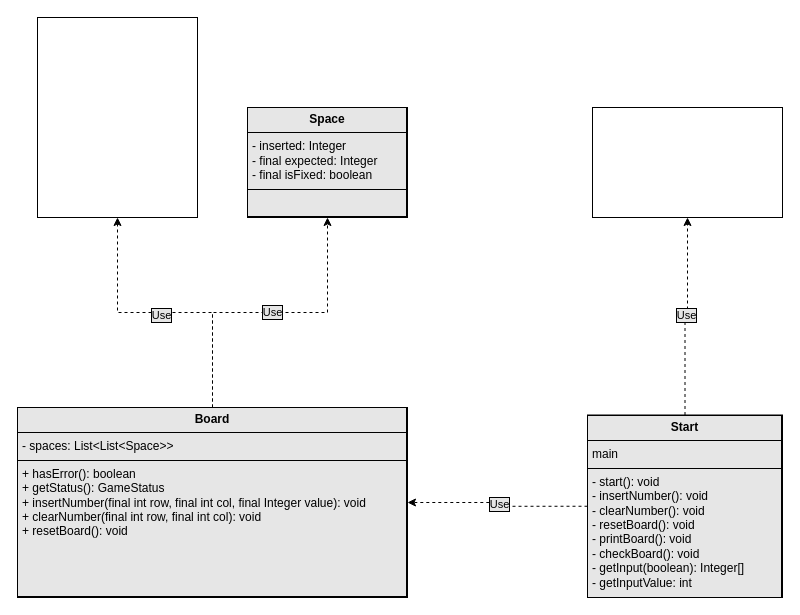
This 800x615 diagram has some shape labels left out. Each missing label, with the centre of its shape:
<enumeration> GameStatus NON_STARTED STARTED HAS_ERROR WON + getStatus(): String: the point at 117,117
BoardTemplate + final static TEMPLATE: String: the point at 687,162
